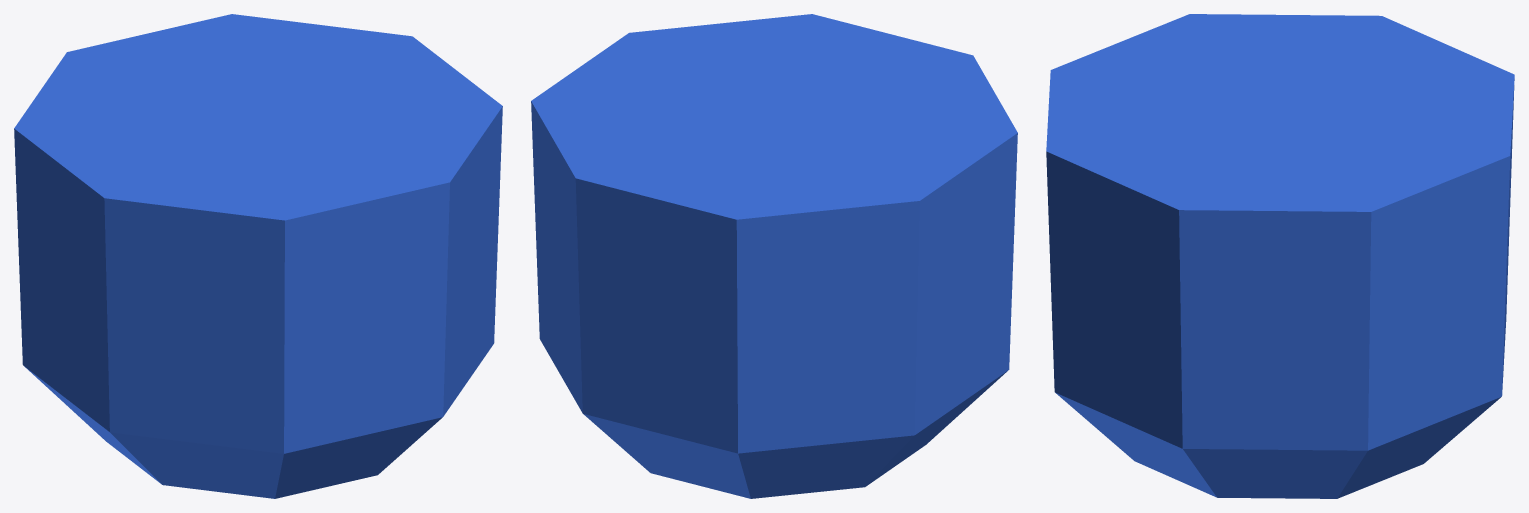
File: Collision_Pot_2.fbx
3 views of the same model, side by side, from view 1: azimuth 30°, elevation 25°; view 2: azimuth 150°, elevation 25°; view 3: azimuth 270°, elevation 25° (orthographic). The views are drawn at different scales.
Parts seen in each view (by area): view 1: UCX_Pot_2_1; view 2: UCX_Pot_2_1; view 3: UCX_Pot_2_1.
Boxes of the visible parts, x1,y1,x2,y2 form: UCX_Pot_2_1: (14, 14, 502, 498); UCX_Pot_2_1: (531, 14, 1017, 498); UCX_Pot_2_1: (1046, 14, 1514, 498).
Size of the model in its own units: 47.34 by 36.16 by 47.34.
